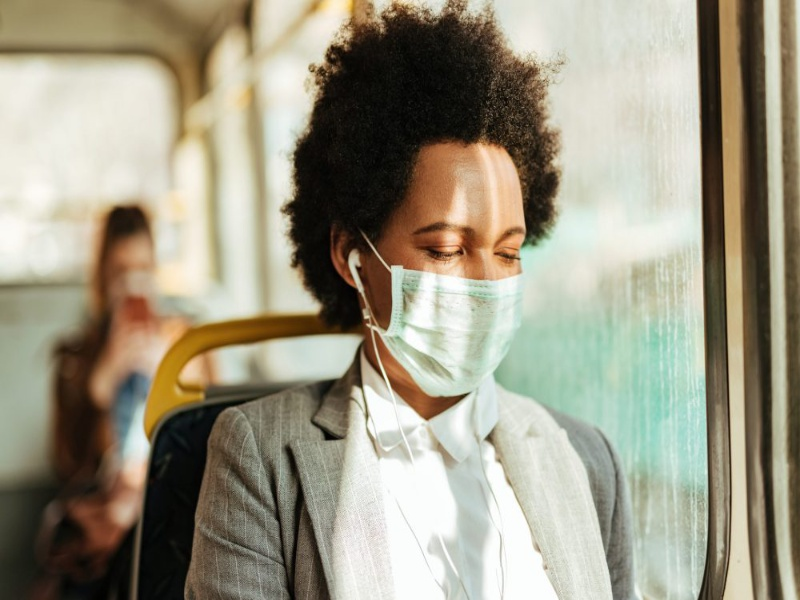ManaoArotava: (327, 69, 567, 417)
